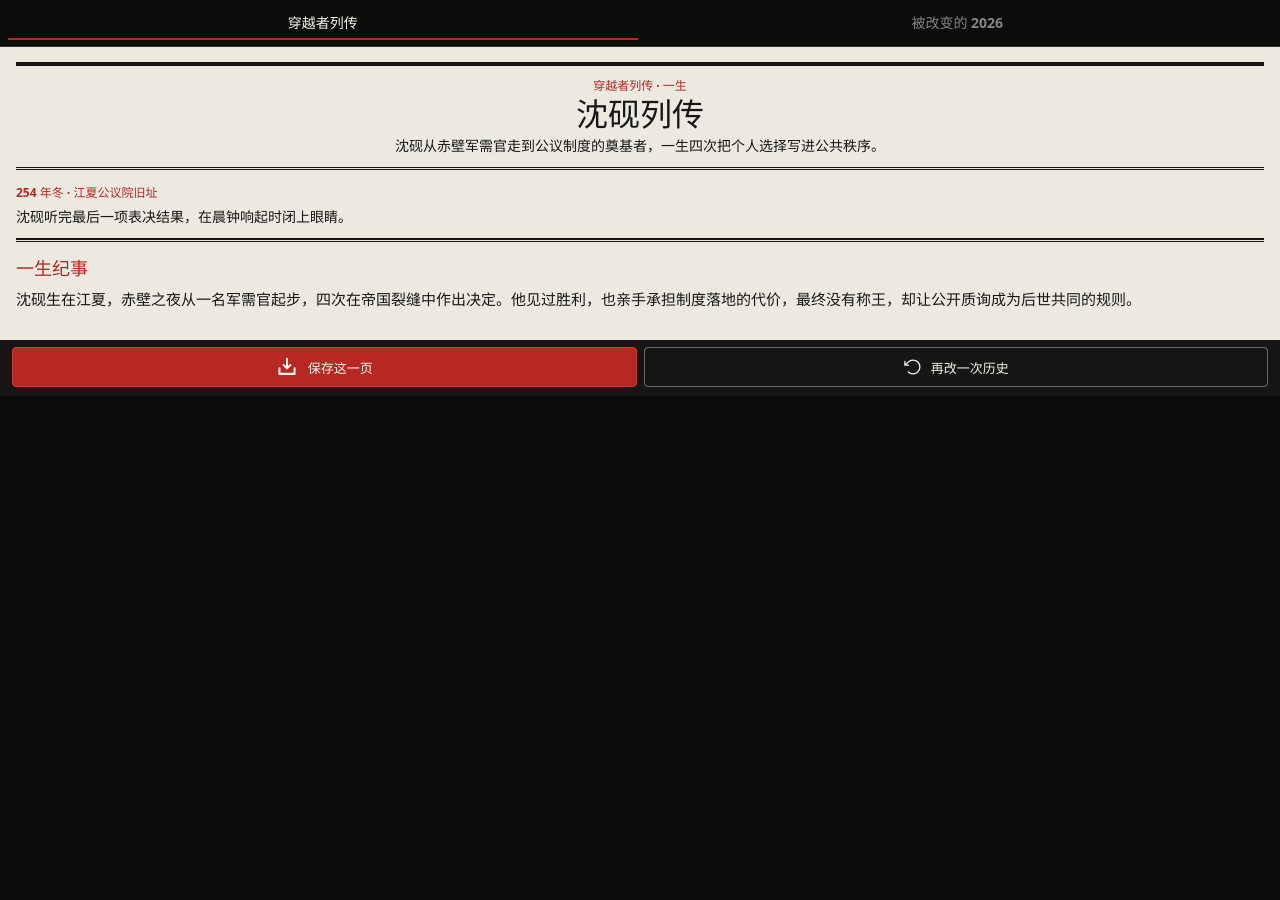
Test: alternate present export › pages between the biography and the changed 2026
The image size is (1280, 900).
Check: the text "一生纪事" is shown, box 16,259 -> 88,279
Click the button "被改变的 2026" at (957, 23), box 642,6 -> 1272,40
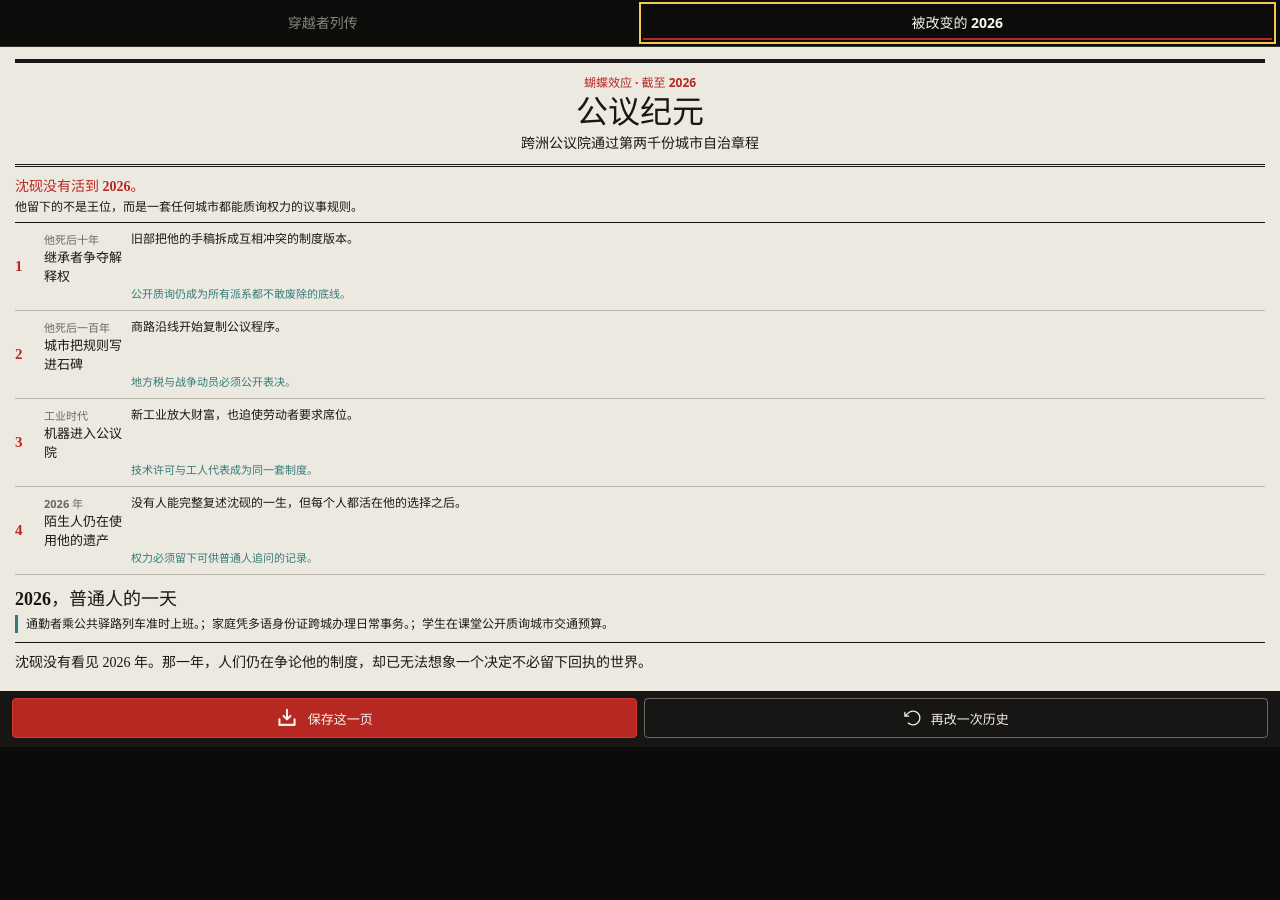
Check: the heading "公议纪元" is shown, box 576,94 -> 704,130
